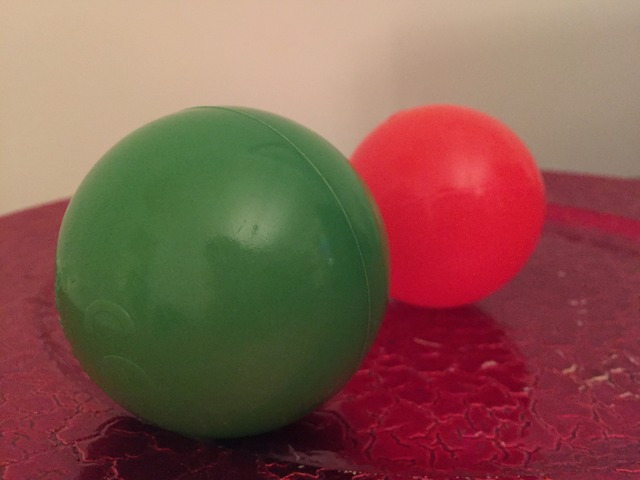Ball: (344, 104, 549, 309)
